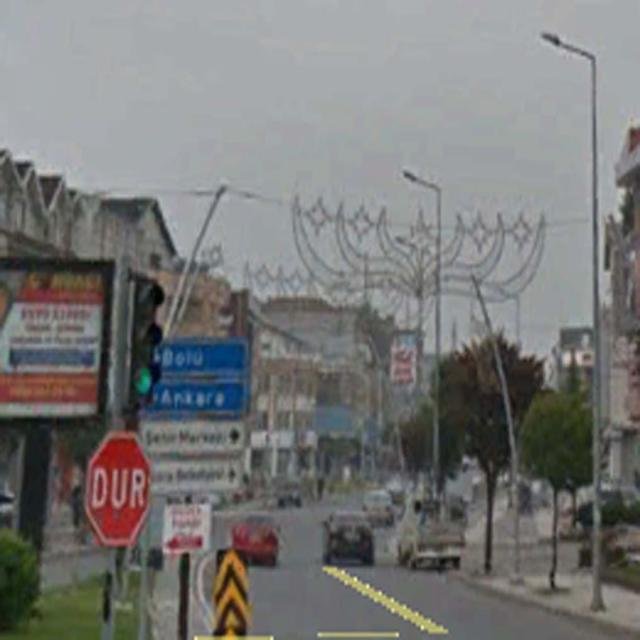dur: (85, 430, 150, 545)
yesil: (124, 269, 155, 404)
